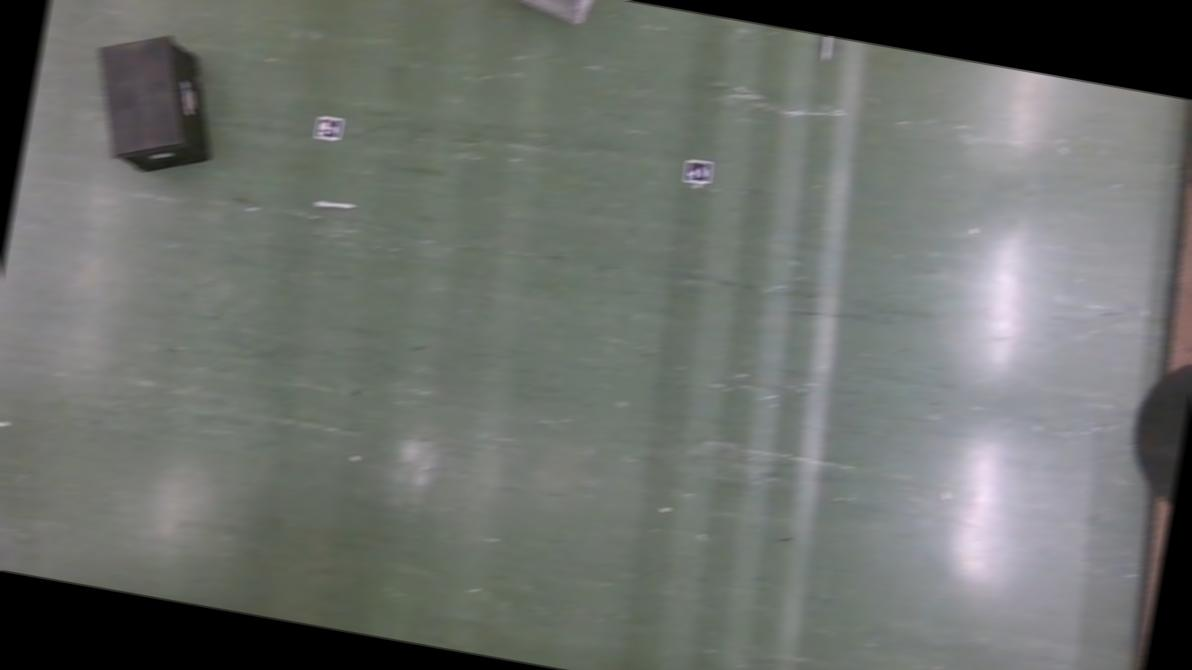probes: (311, 197, 358, 214)
rako: (79, 26, 230, 184)
